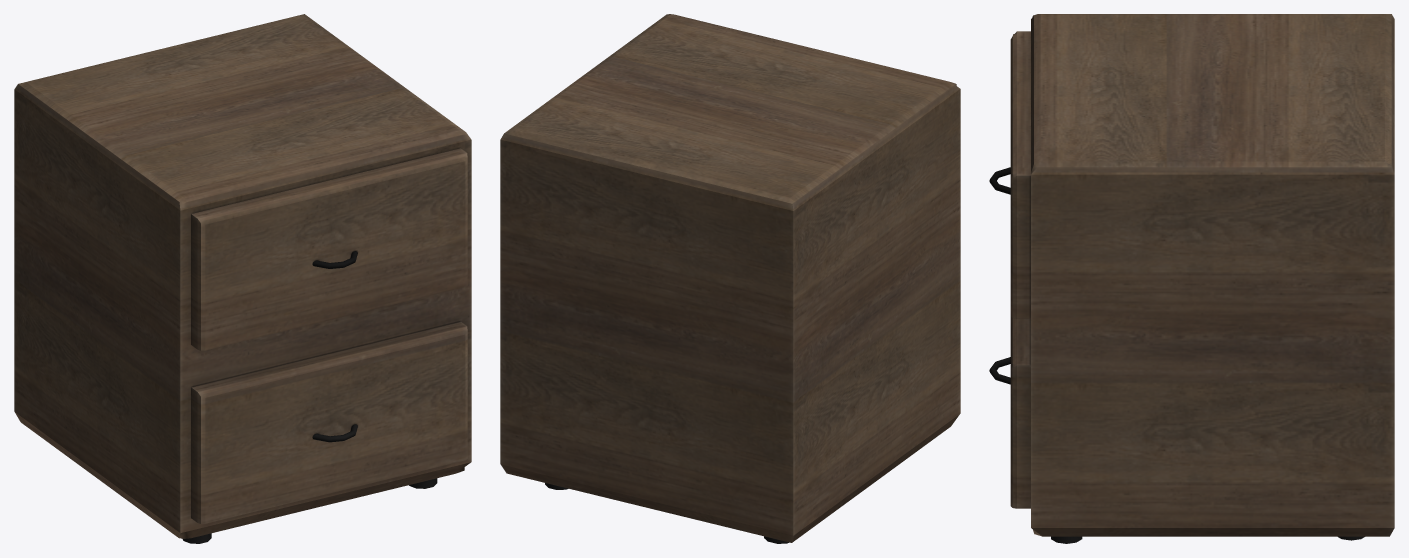
File: nightstand.glb
The picture shows the model from 3 angles, left to right: view 1: azimuth 30°, elevation 25°; view 2: azimuth 150°, elevation 25°; view 3: azimuth 270°, elevation 25°; orthographic projection. The views are drawn at different scales.
Parts seen in each view (by area): view 1: Object_2; view 2: Object_2; view 3: Object_2.
Boxes of the visible parts, x1,y1,x2,y2 form: Object_2: [14, 14, 471, 543]; Object_2: [500, 14, 960, 543]; Object_2: [989, 14, 1394, 543].
Size of the model in its own units: 0.6929 by 0.8073 by 0.7626.
1 material, 1 textured.
